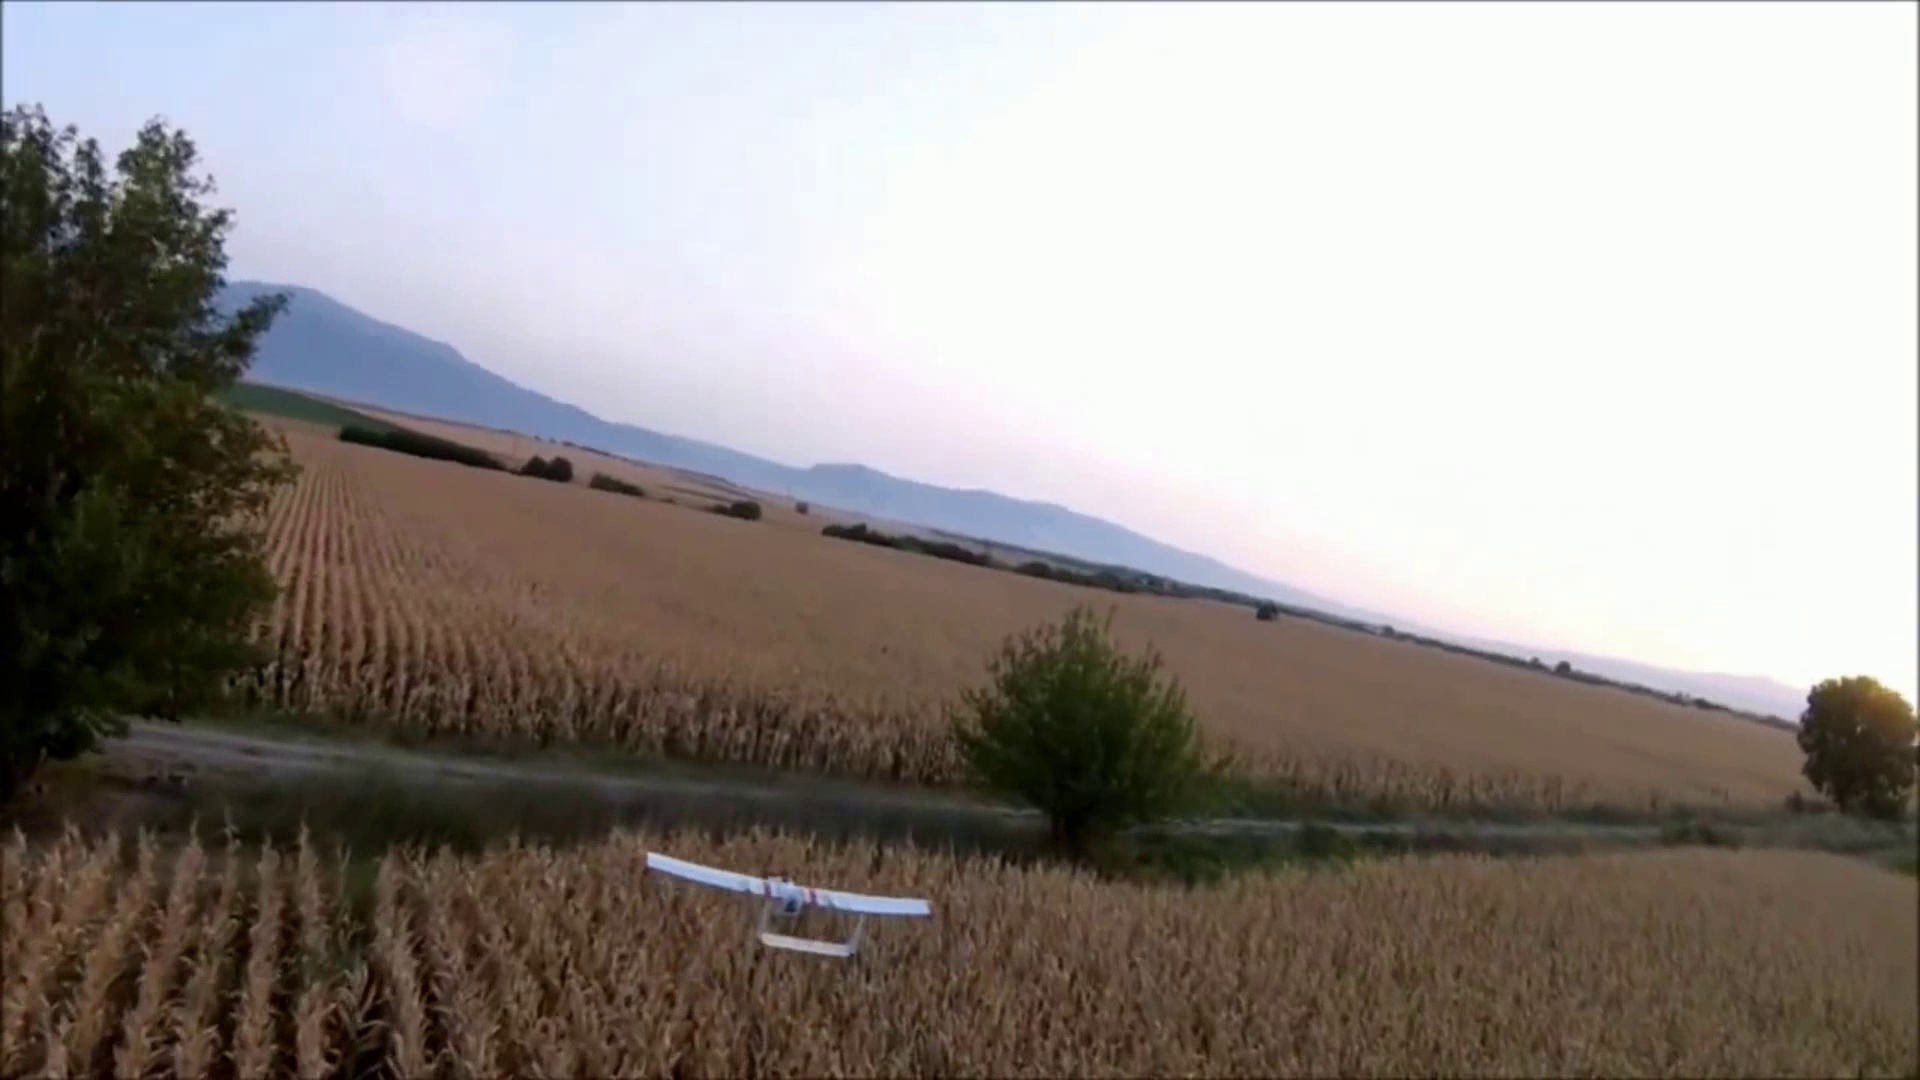airplane: (642, 853, 936, 965)
